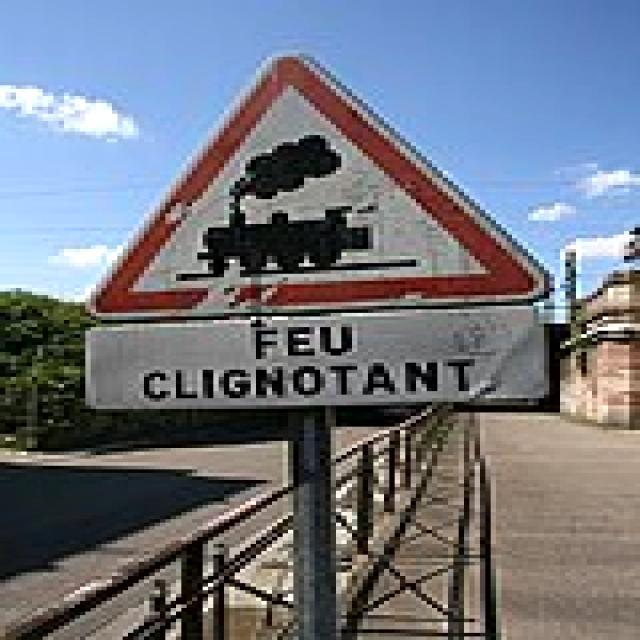Traffic sign: (71, 43, 562, 426)
